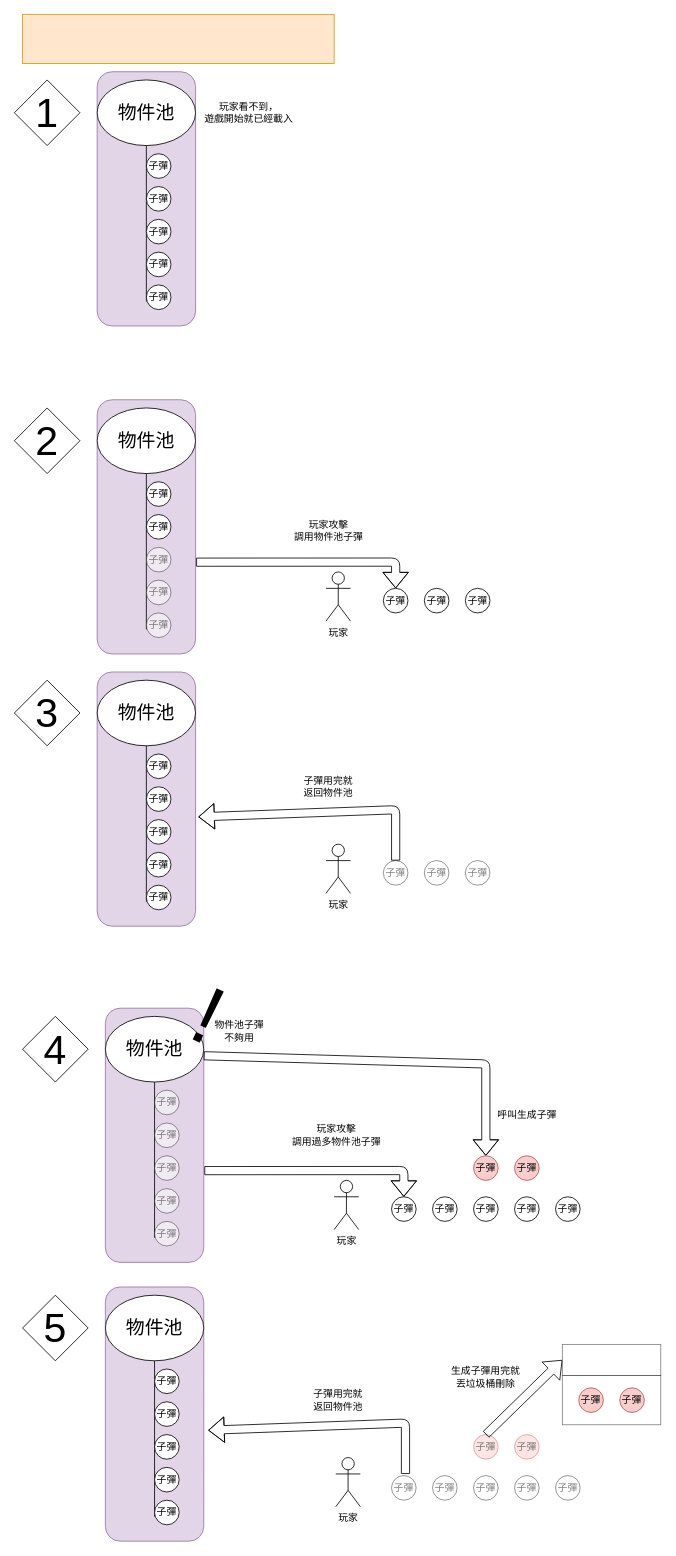
The diagram is 676 pixels wide and 1556 high, and some of its shapes have lost their labels. Here are the shapes that lost their labels. From the top down, the box of each, then its label:
(22, 14, 334, 64): 物件池具體運作 這邊以FPS舉例
(562, 1344, 661, 1376): 垃圾桶
